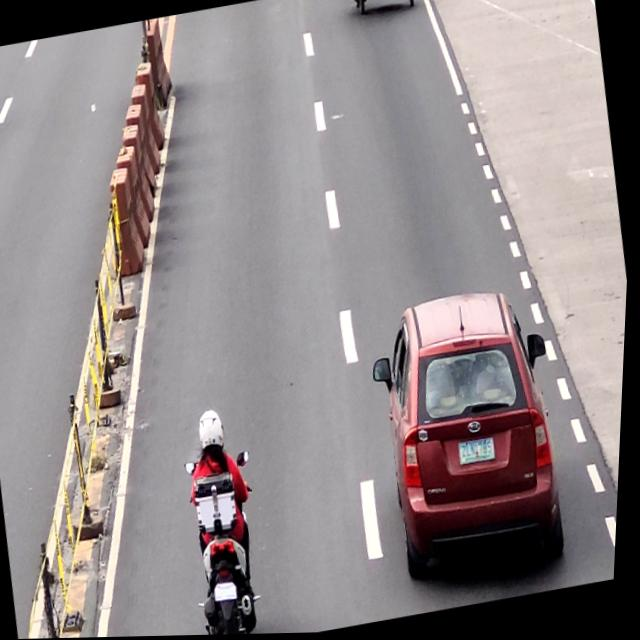Car: (359, 282, 586, 595)
License-Plate: (462, 436, 502, 469), (219, 582, 245, 604)
Motorcycle: (183, 450, 282, 636)
Tricycle: (349, 0, 418, 20)
